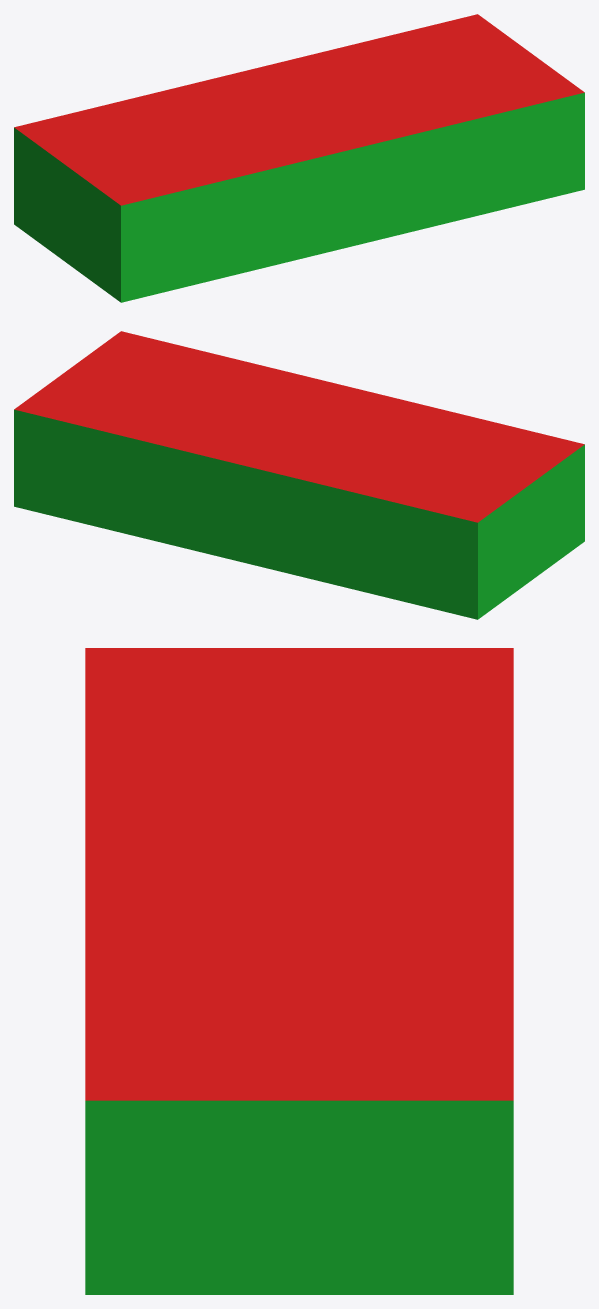
File: marker.dae
The picture shows the model from 3 angles, top to bottom: view 1: azimuth 30°, elevation 25°; view 2: azimuth 150°, elevation 25°; view 3: azimuth 270°, elevation 25°; orthographic projection. The views are drawn at different scales.
Visible parts, largest first — view 1: box; view 2: box; view 3: box.
Part boxes in pixels (<box>): box: <box>14,14,584,302</box>; box: <box>14,331,584,619</box>; box: <box>85,648,513,1294</box>.
Bounding box in the file's own units: 10 × 4 × 2.
